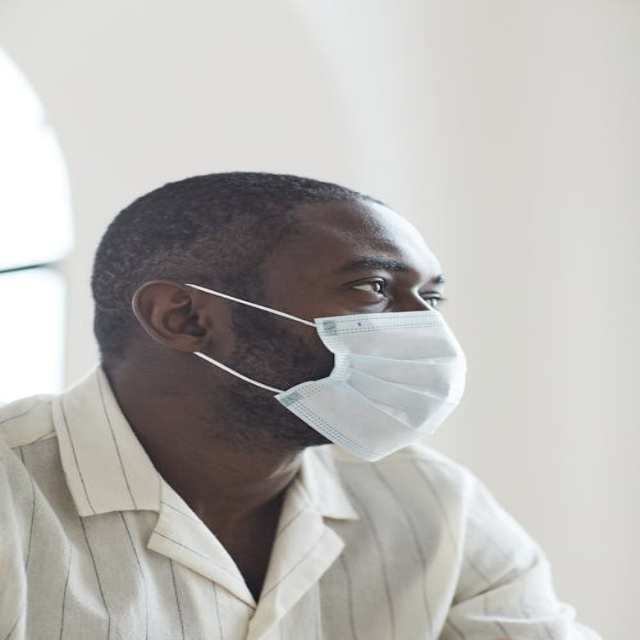Mascara: (179, 282, 467, 460)
Sin_gafas: (289, 247, 452, 313)
